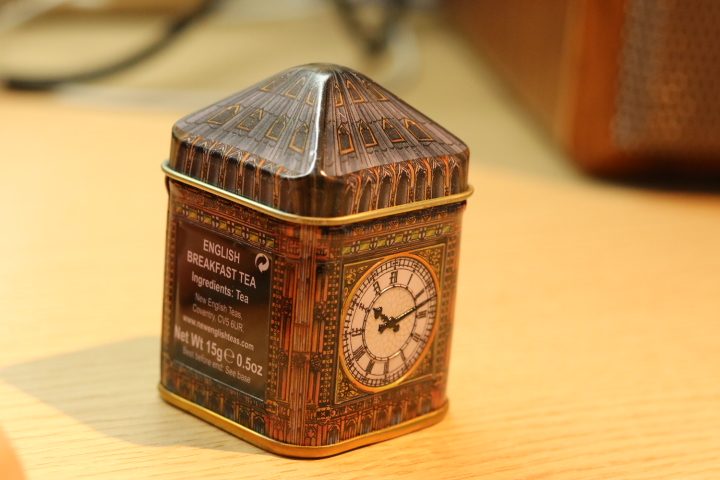Big Ben: (140, 52, 509, 467)
